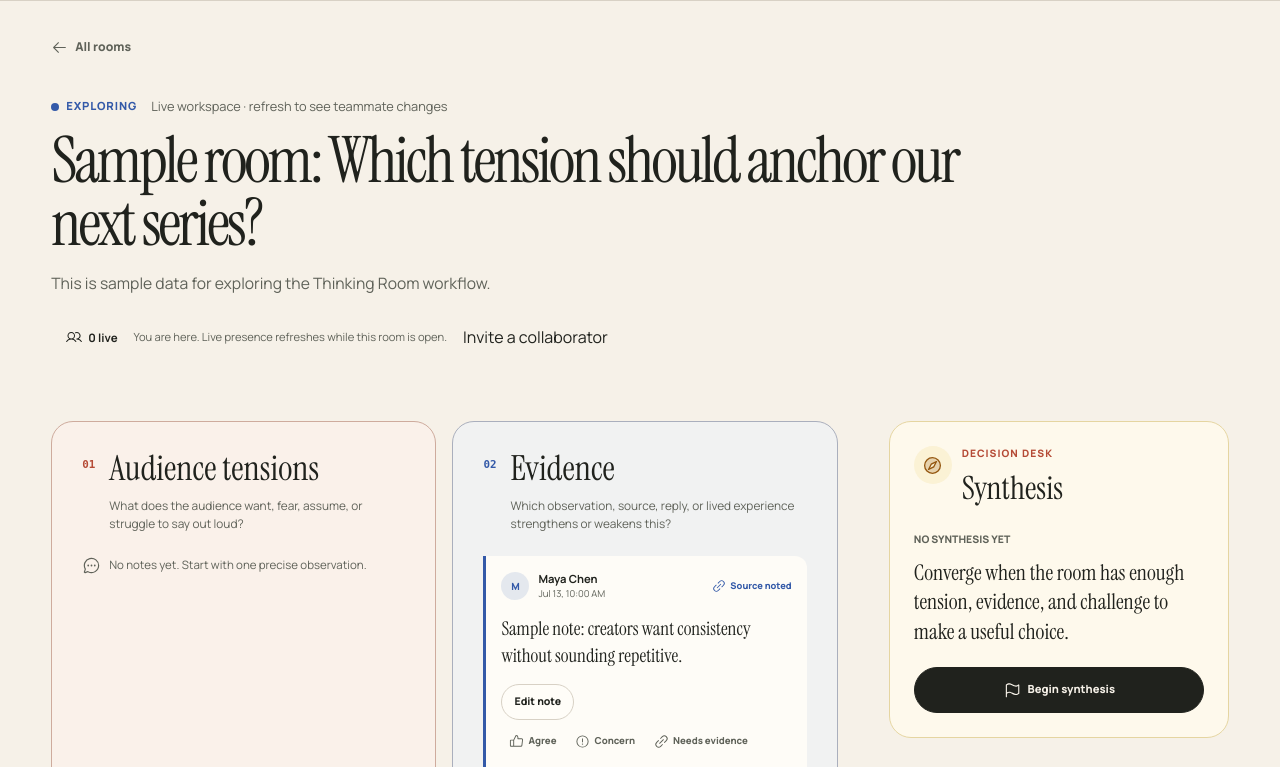
Test: Thinking Room guided decision canvas › preserves a stale local edit and retries it only after the actor chooses their version
Click the button "Edit note" at (538, 702), box x1=501 y1=684 x2=574 y2=720
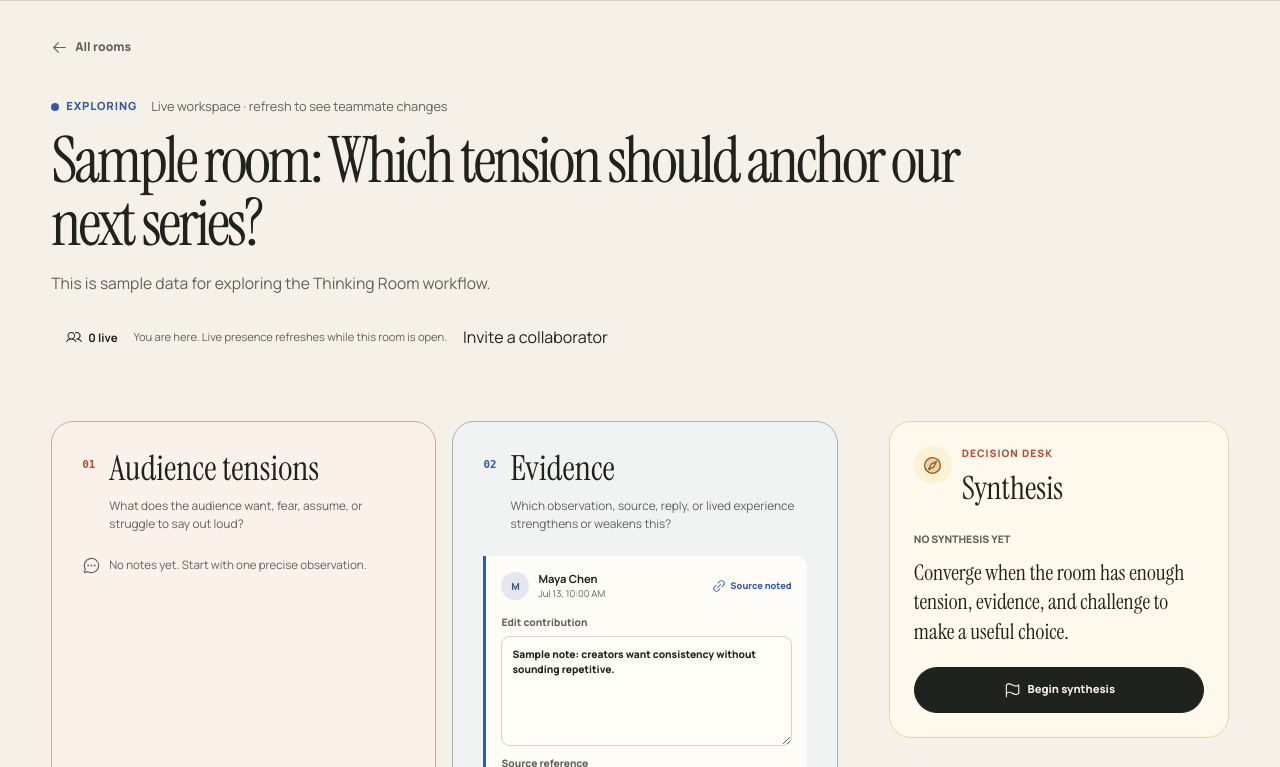
Replace the text in the text box labelled "Edit contribution" with "My deliberately retried version." at (646, 691), box x1=501 y1=636 x2=792 y2=746
(page scrolled)
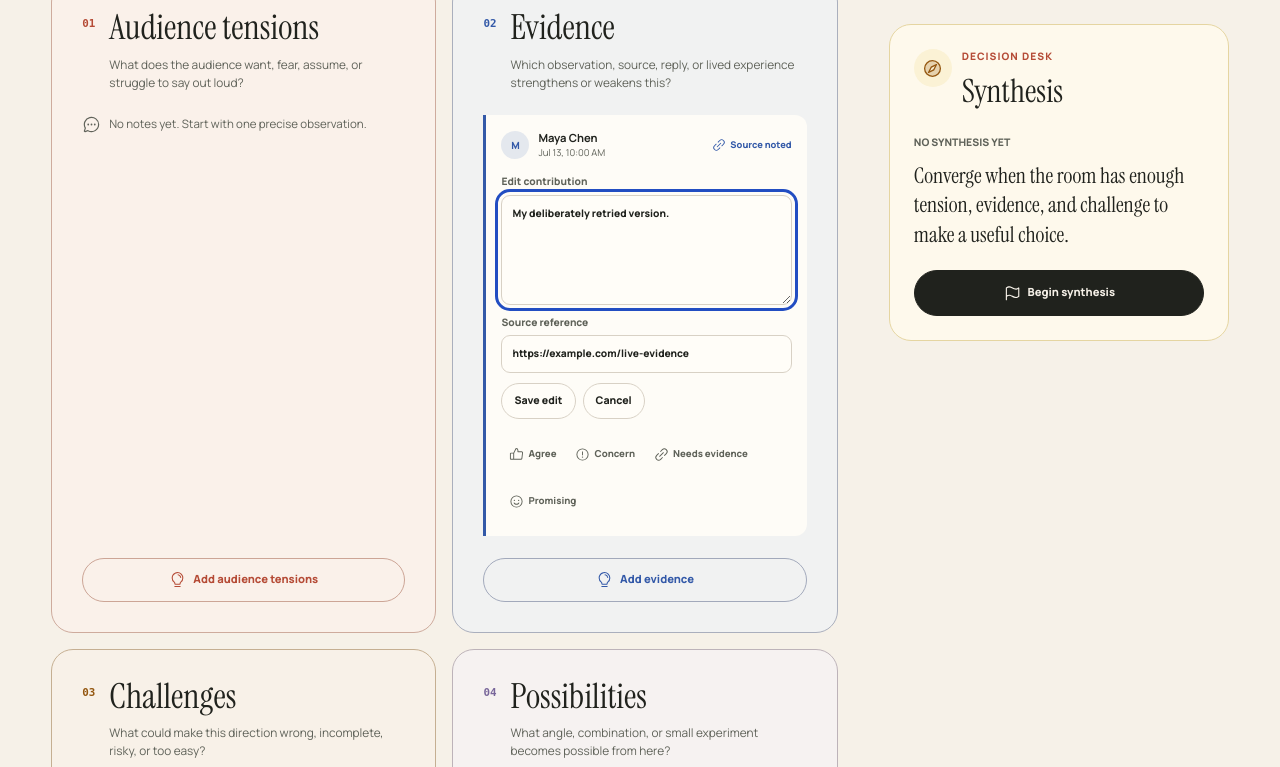
Click the button "Save edit" at (538, 400), box x1=501 y1=382 x2=576 y2=418
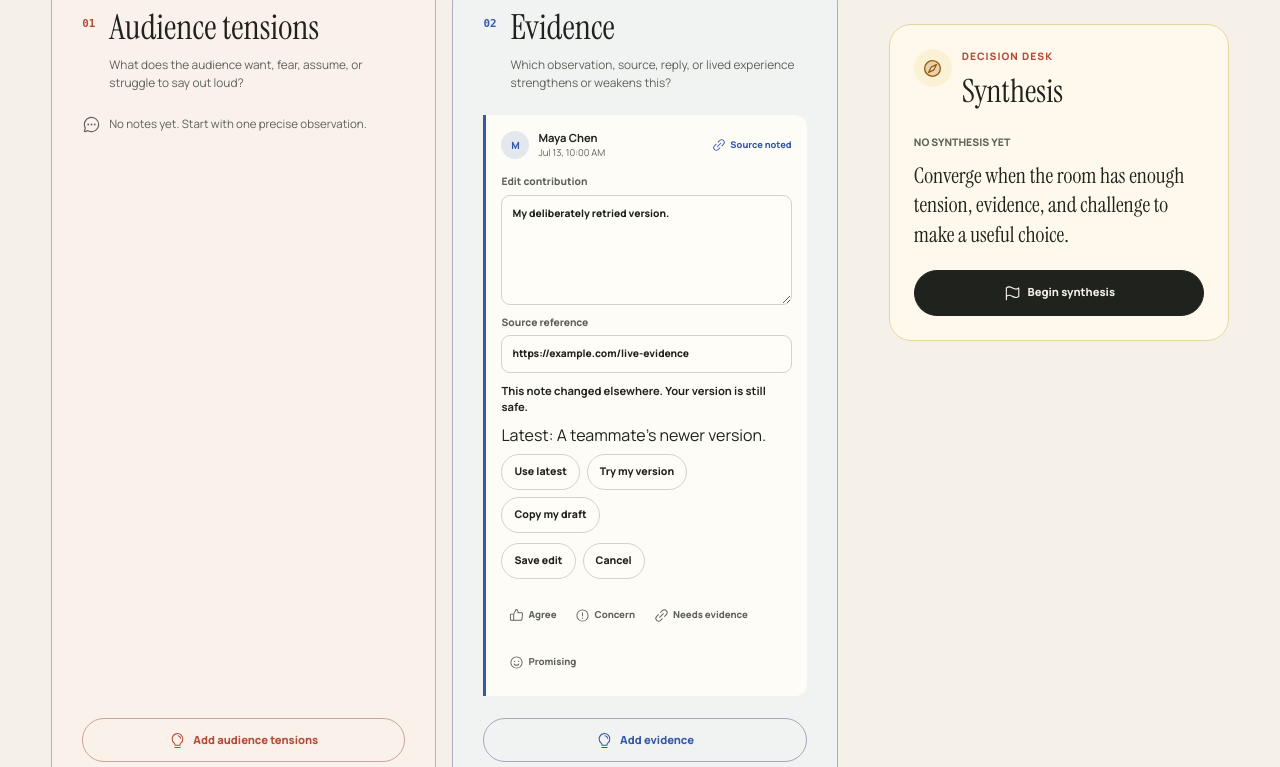
Expected: the text "This note changed elsewhere. Your version is still safe." is shown, x1=501 y1=382 x2=792 y2=416
Expected: the button "Use latest" is shown, x1=501 y1=454 x2=580 y2=490
Expected: the button "Copy my draft" is shown, x1=501 y1=497 x2=600 y2=533
Click the button "Try my version" at (637, 472), box x1=587 y1=454 x2=687 y2=490
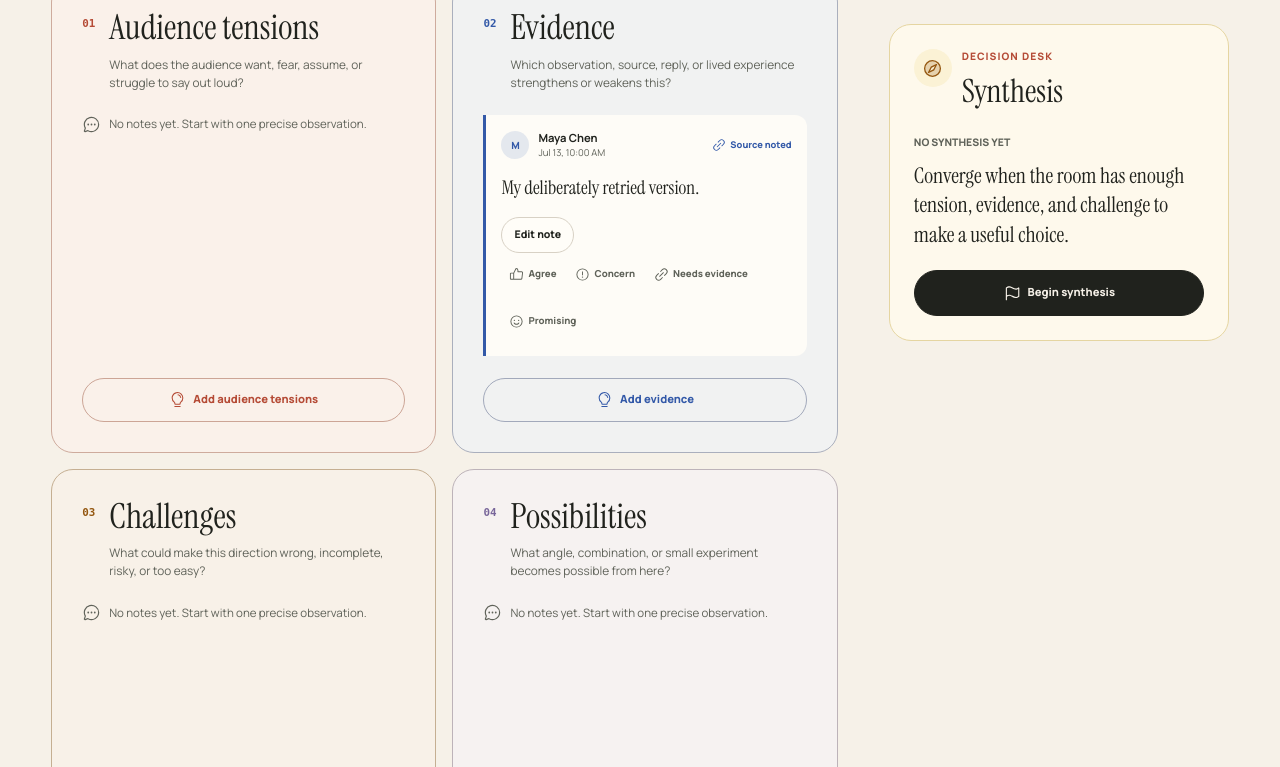
Expected: the text "My deliberately retried version." is shown, x1=501 y1=176 x2=699 y2=200
